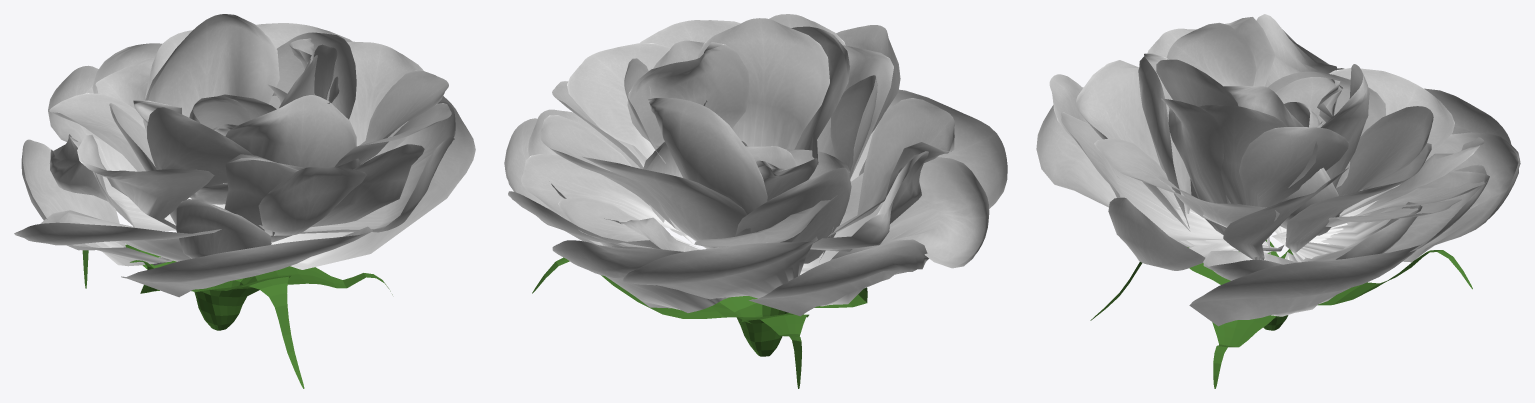
The model's file is rose.glb.
3 renders of one model, left to right at view 1: azimuth 30°, elevation 25°; view 2: azimuth 150°, elevation 25°; view 3: azimuth 270°, elevation 25°, orthographic. The views are drawn at different scales.
Visible parts, largest first — view 1: rose; view 2: rose; view 3: rose.
Boxes of the visible parts, bbox=[...] form: rose: bbox=[14, 14, 475, 388]; rose: bbox=[504, 14, 1007, 388]; rose: bbox=[1036, 14, 1520, 388].
Bounding box in the file's own units: 0.072 × 0.0448 × 0.068.
2 materials, 1 textured.
